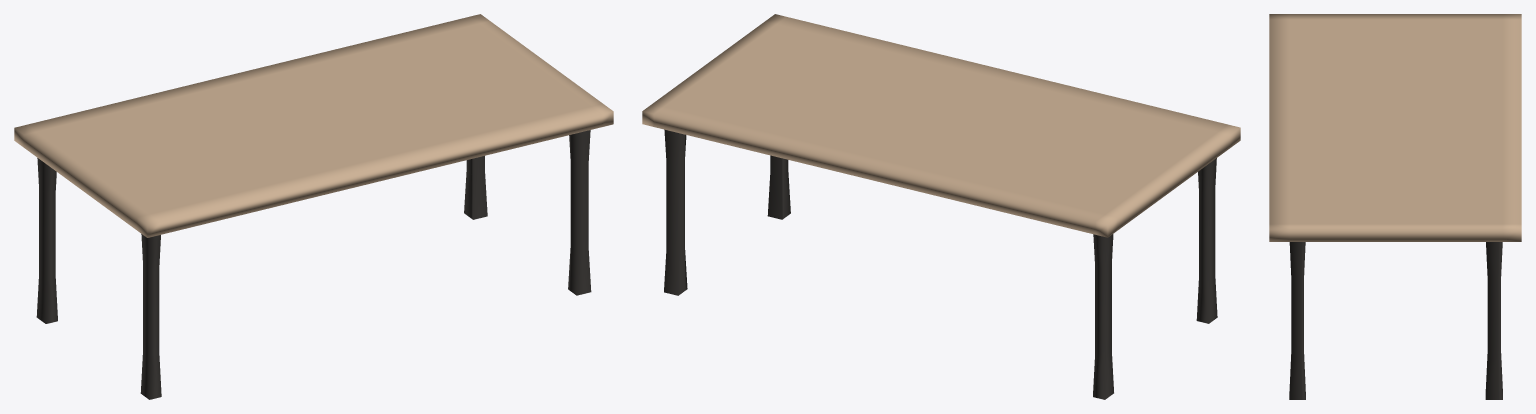
Rendered from Desk.fbx.
3 views of the same model, side by side, from view 1: azimuth 30°, elevation 25°; view 2: azimuth 150°, elevation 25°; view 3: azimuth 270°, elevation 25° (orthographic). The views are drawn at different scales.
Visible parts, largest first — view 1: pCube1; view 2: pCube1; view 3: pCube1.
Part boxes in pixels (x1,y1,x2,y2): pCube1: [14, 14, 613, 399]; pCube1: [642, 14, 1240, 399]; pCube1: [1269, 14, 1521, 399].
Size of the model in its own units: 6.35 by 2.42 by 3.14.
